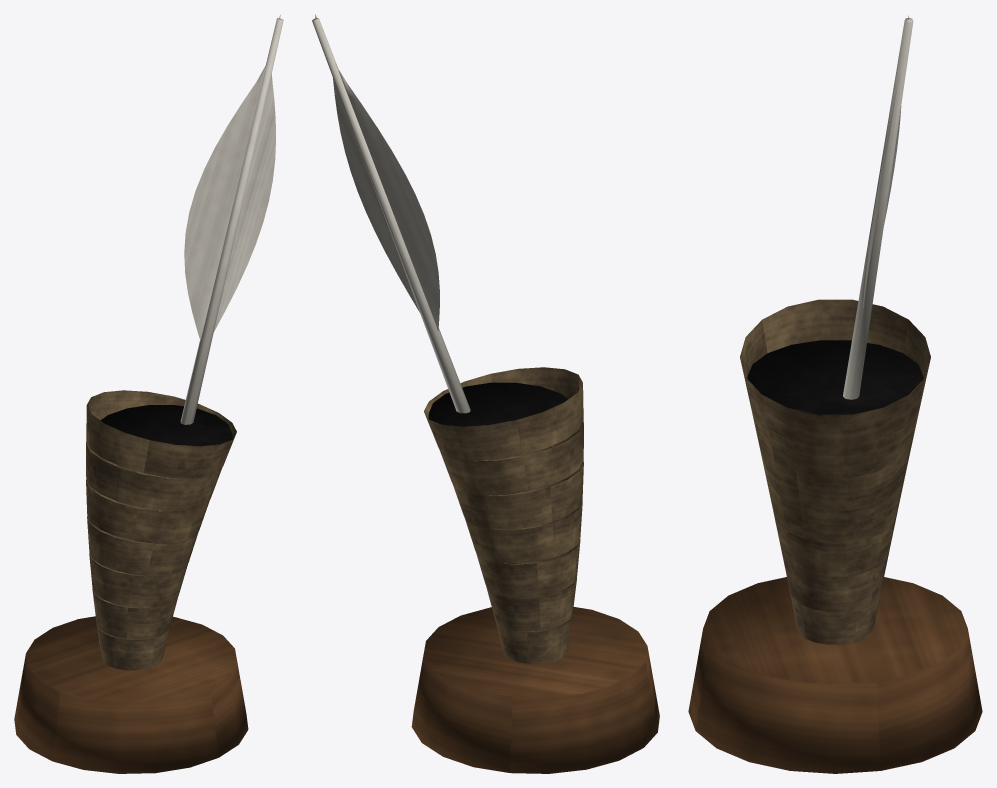
The model's file is inkhorn.glb.
3 views of the same model, side by side, from view 1: azimuth 30°, elevation 25°; view 2: azimuth 150°, elevation 25°; view 3: azimuth 270°, elevation 25° (orthographic). The views are drawn at different scales.
Parts seen in each view (by area): view 1: stand, vane, horn7, horn6, shaft, horn5, ink, horn4, horn3, horn2, horn1; view 2: stand, vane, horn7, horn6, horn5, shaft, ink, horn4, horn3, horn2, horn1; view 3: stand, horn7, ink, horn6, shaft, horn5, horn4, horn3, horn2, horn1, vane.
Boxes of the visible parts, x1,y1,x2,y2 form: stand: [14, 616, 248, 773]; vane: [184, 15, 280, 340]; horn7: [86, 390, 236, 478]; horn6: [86, 442, 221, 511]; shaft: [159, 18, 283, 511]; horn5: [86, 465, 209, 543]; ink: [101, 405, 232, 446]; horn4: [87, 502, 198, 575]; horn3: [89, 538, 187, 607]; horn2: [92, 574, 177, 639]; horn1: [96, 624, 169, 670]; stand: [411, 607, 659, 773]; vane: [315, 14, 439, 331]; horn7: [424, 367, 583, 461]; horn6: [439, 422, 583, 495]; horn5: [452, 446, 583, 529]; shaft: [312, 18, 503, 495]; ink: [428, 382, 568, 426]; horn4: [465, 485, 582, 563]; horn3: [476, 524, 580, 597]; horn2: [486, 562, 576, 631]; horn1: [495, 615, 572, 663]; stand: [688, 577, 982, 773]; horn7: [740, 299, 930, 446]; ink: [747, 340, 923, 414]; horn6: [748, 397, 922, 477]; shaft: [843, 17, 913, 399]; horn5: [757, 435, 913, 509]; horn4: [765, 472, 905, 542]; horn3: [773, 511, 897, 576]; horn2: [781, 551, 889, 611]; horn1: [790, 591, 880, 644]; vane: [862, 15, 908, 314].
Size of the model in its own units: 0.1111 by 0.242 by 0.08.
4 materials, 4 textured.
